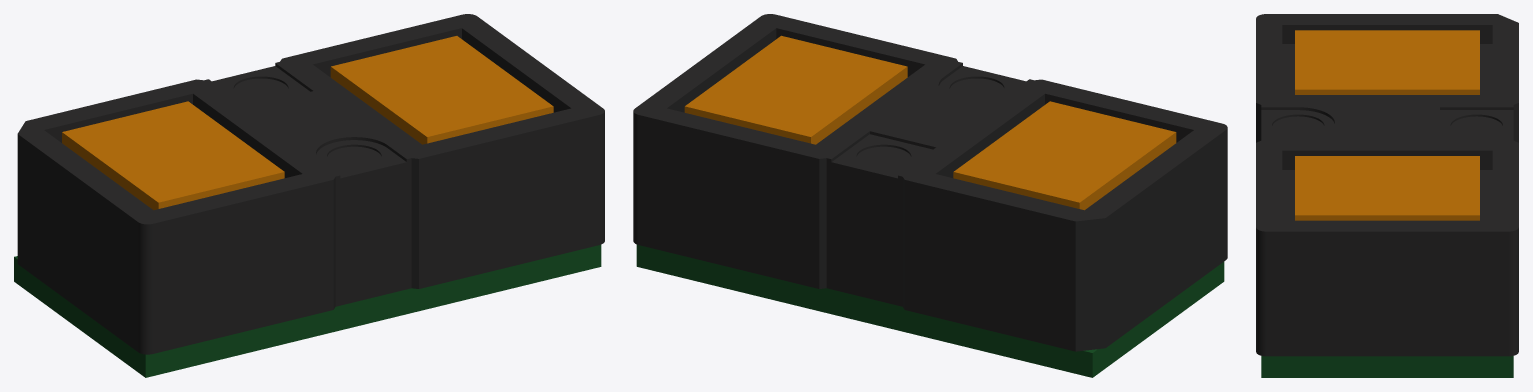
The model's file is sparkfun_st_vl53l1x.glb.
The picture shows the model from 3 angles, left to right: view 1: azimuth 30°, elevation 25°; view 2: azimuth 150°, elevation 25°; view 3: azimuth 270°, elevation 25°; orthographic projection. The views are drawn at different scales.
Parts seen in each view (by area): view 1: ic_vl53l1x; view 2: ic_vl53l1x; view 3: ic_vl53l1x.
Boxes of the visible parts, box(x1,y1,x2,y2) form: ic_vl53l1x: box(14, 14, 604, 377); ic_vl53l1x: box(633, 14, 1227, 377); ic_vl53l1x: box(1256, 14, 1518, 377).
Size of the model in its own units: 0.0049 by 0.00157 by 0.0025.
